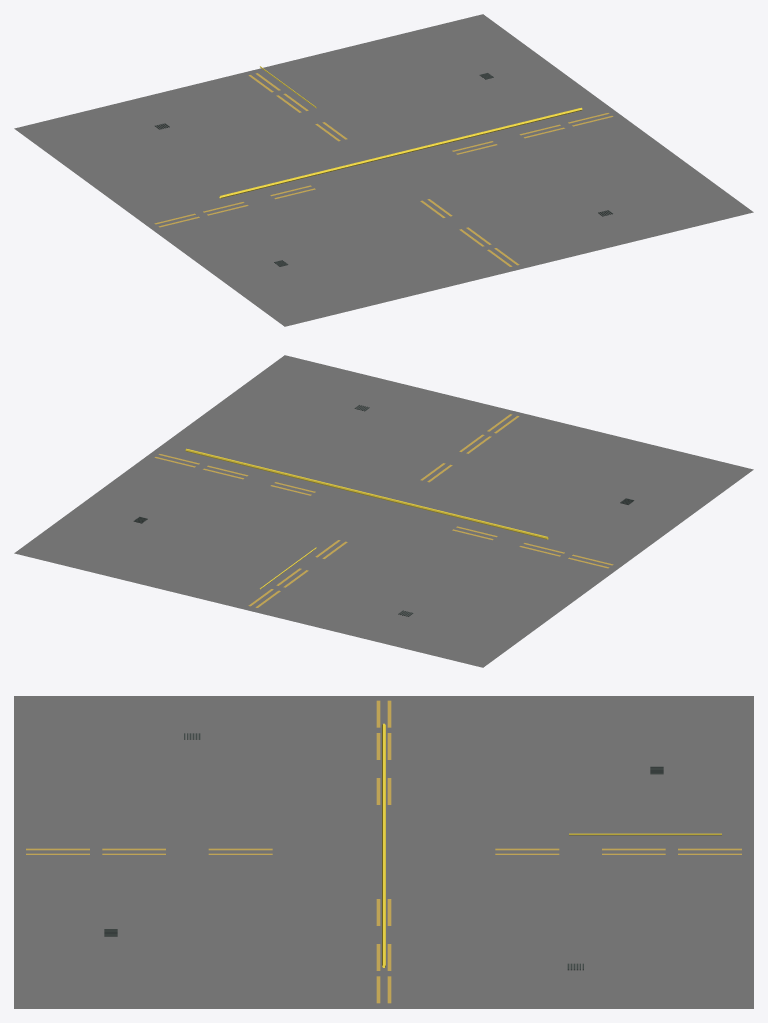
3 views of the same model, one above another, from view 1: azimuth 30°, elevation 25°; view 2: azimuth 150°, elevation 25°; view 3: azimuth 270°, elevation 25° (orthographic). The views are drawn at different scales.
Parts seen in each view (by area): view 1: RD41L | archived geometry, Fitted street and landscape details, RD41L | line, light and sprite surfaces; view 2: RD41L | archived geometry, Fitted street and landscape details, RD41L | line, light and sprite surfaces; view 3: RD41L | archived geometry, Fitted street and landscape details, RD41L | line, light and sprite surfaces.
Boxes of the visible parts, x1,y1,x2,y2 form: RD41L | archived geometry: (14, 14, 753, 326); Fitted street and landscape details: (154, 73, 613, 266); RD41L | line, light and sprite surfaces: (219, 66, 582, 198); RD41L | archived geometry: (14, 355, 753, 667); Fitted street and landscape details: (133, 405, 634, 616); RD41L | line, light and sprite surfaces: (185, 448, 548, 589); RD41L | archived geometry: (14, 696, 753, 1008); Fitted street and landscape details: (26, 700, 741, 1003); RD41L | line, light and sprite surfaces: (382, 723, 721, 967).
Bounding box in the file's own units: 16 × 0.4656 × 16.
